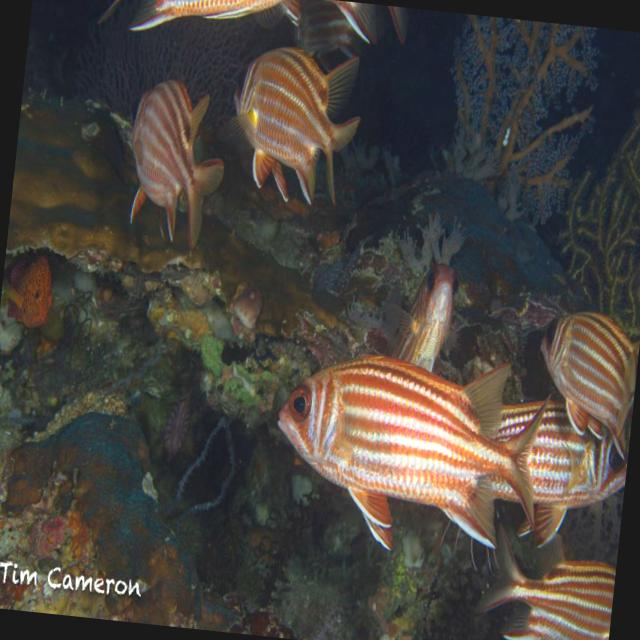Asker Baligi: (258, 324, 570, 581), (92, 60, 250, 265), (214, 28, 370, 220), (522, 284, 640, 461)
